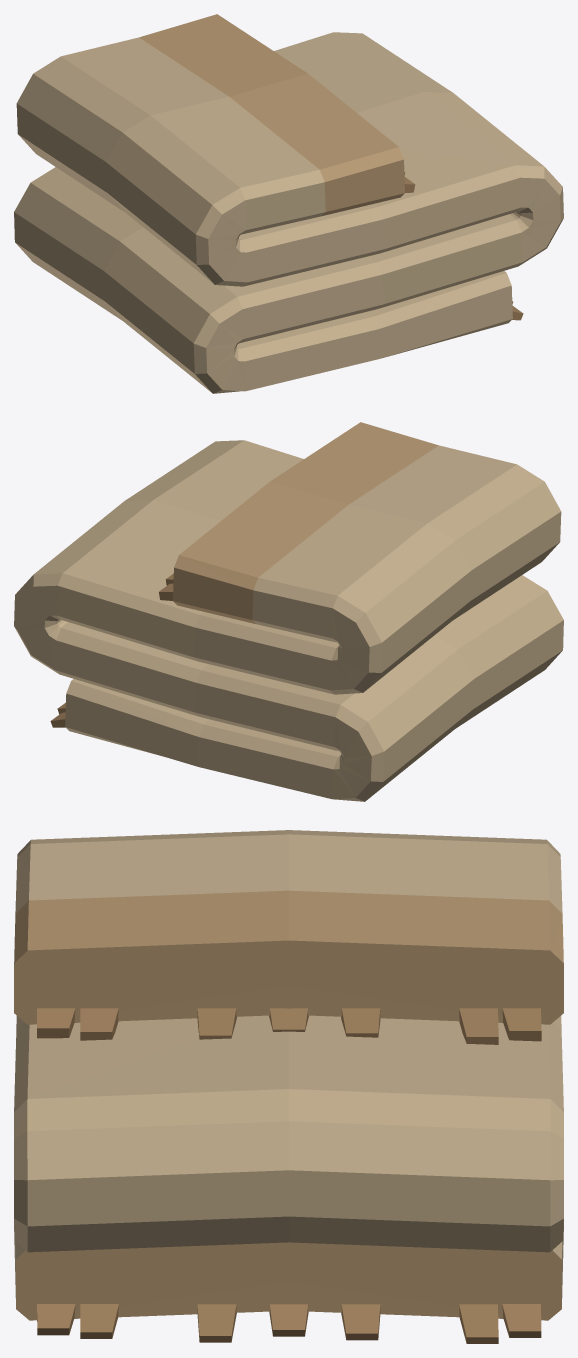
The model's file is throw-blanket-f1ab26.glb.
3 views of the same model, one above another, from view 1: azimuth 30°, elevation 25°; view 2: azimuth 150°, elevation 25°; view 3: azimuth 270°, elevation 25° (orthographic). The views are drawn at different scales.
Parts seen in each view (by area): view 1: throw-blanket; view 2: throw-blanket; view 3: throw-blanket.
Part boxes in pixels (x1=…): throw-blanket: x1=14, y1=14, x2=563, y2=393; throw-blanket: x1=14, y1=422, x2=563, y2=801; throw-blanket: x1=14, y1=830, x2=563, y2=1343.
Bounding box in the file's own units: 0.4599 × 0.2537 × 0.4123.
